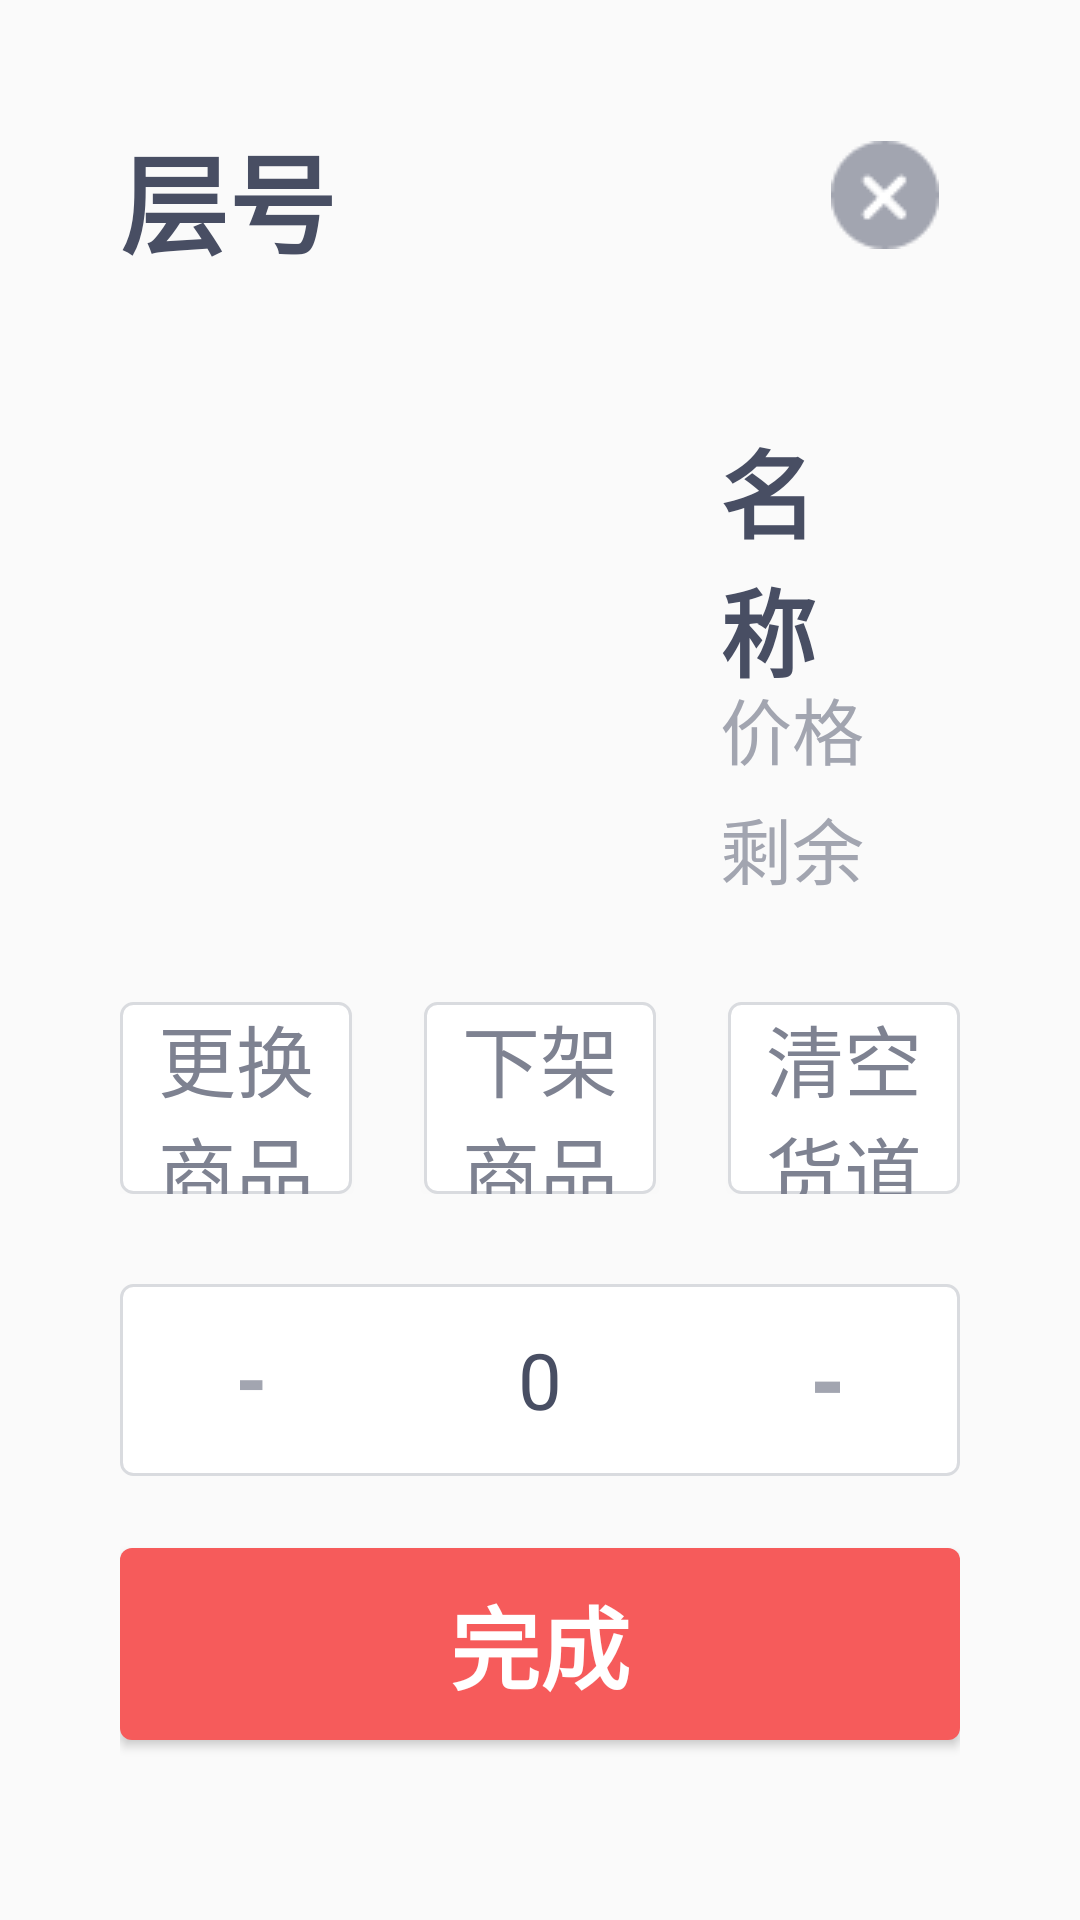

Named icons in this screenshot (1080px×1920px) and their centers, (x=x, y=y):
close: (x=885, y=195)
